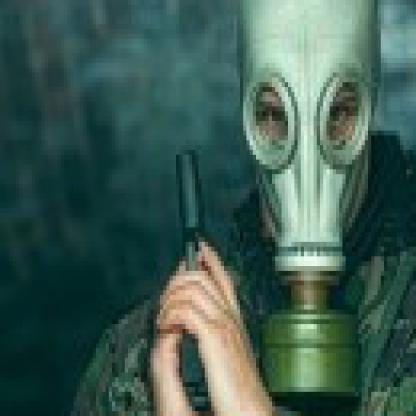gun: (154, 136, 247, 411)
